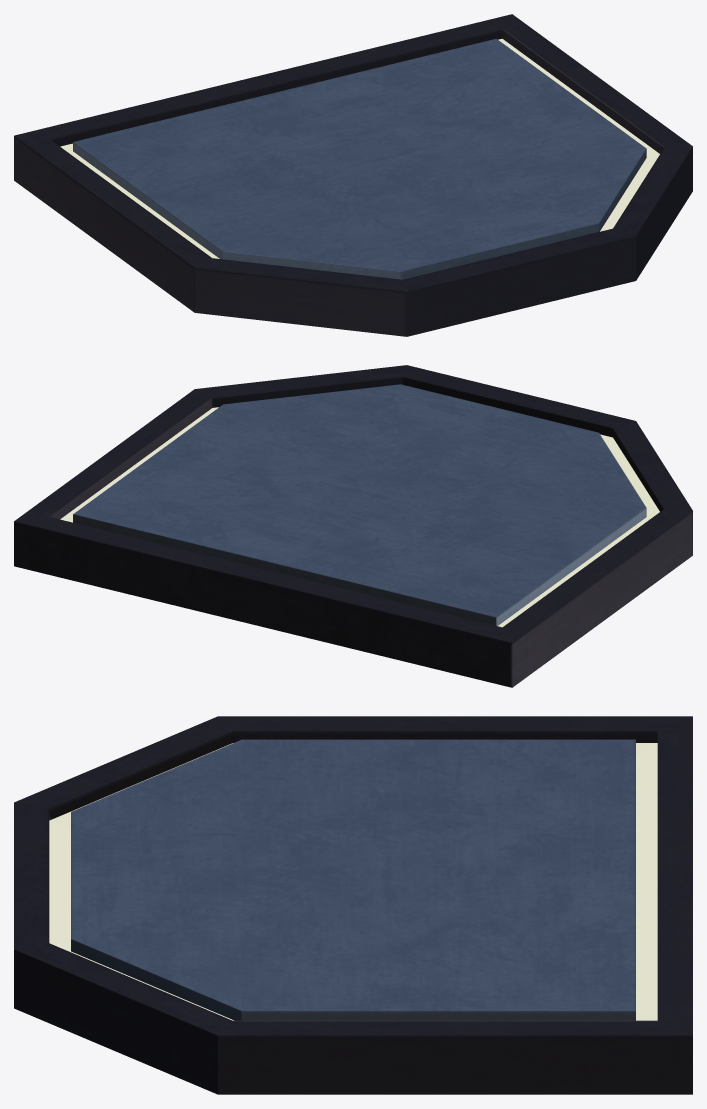
The model's file is PlatformHolder01_Art.glb.
The picture shows the model from 3 angles, top to bottom: view 1: azimuth 30°, elevation 25°; view 2: azimuth 150°, elevation 25°; view 3: azimuth 270°, elevation 25°; orthographic projection. The views are drawn at different scales.
Visible parts, largest first — view 1: PlatformHolder01_Art; view 2: PlatformHolder01_Art; view 3: PlatformHolder01_Art.
Part boxes in pixels (bbox=[...]): PlatformHolder01_Art: bbox=[14, 14, 692, 336]; PlatformHolder01_Art: bbox=[14, 365, 692, 687]; PlatformHolder01_Art: bbox=[14, 716, 692, 1094].
Bounding box in the file's own units: 1.94 × 0.1692 × 1.75.
1 material, 1 textured.
